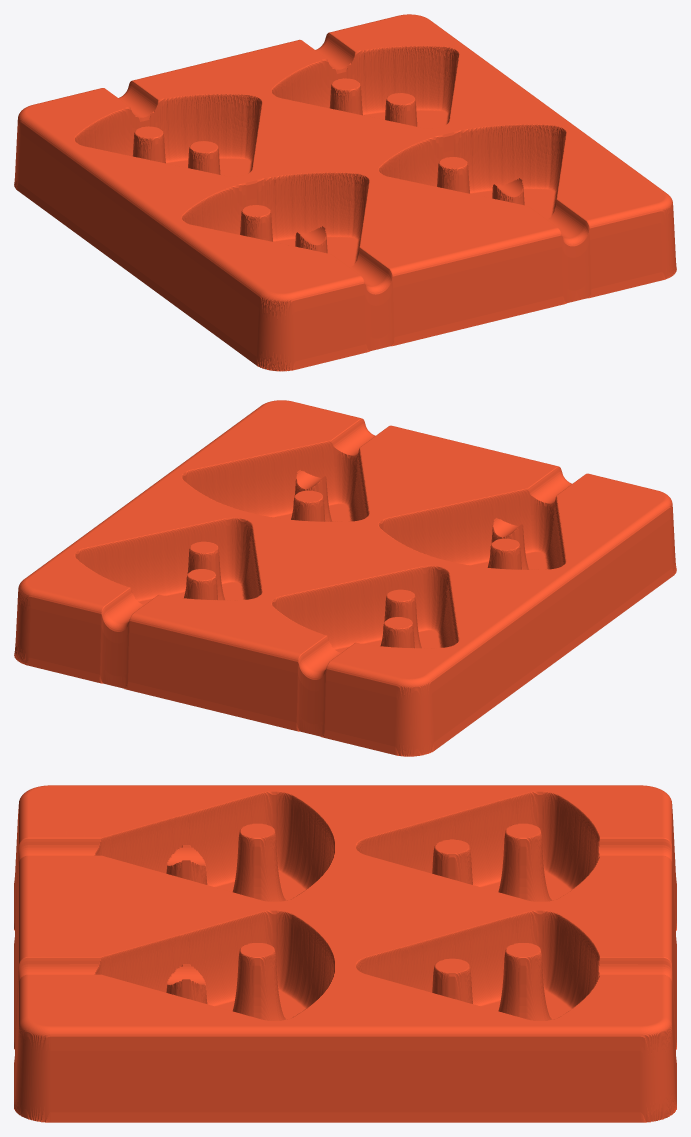
File: mold.glb
3 views of the same model, one above another, from view 1: azimuth 30°, elevation 25°; view 2: azimuth 150°, elevation 25°; view 3: azimuth 270°, elevation 25° (orthographic). The views are drawn at different scales.
Visible parts, largest first — view 1: geometry_0; view 2: geometry_0; view 3: geometry_0.
Boxes of the visible parts, <box> form: geometry_0: <box>14,14,676,371</box>; geometry_0: <box>14,400,676,756</box>; geometry_0: <box>14,785,676,1122</box>.
Bounding box in the file's own units: 0.1468 × 0.0245 × 0.1631.
